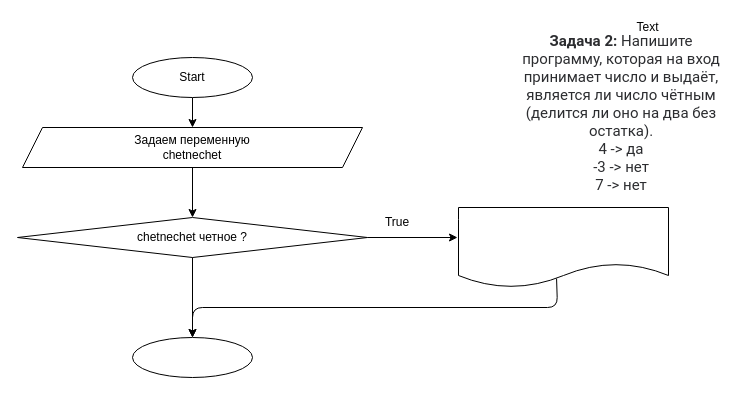
The diagram is 744 pixels wide and 395 high, and some of its shapes have lost their labels. Each missing label, with the box of its shape:
Chetnechet является четным: (458, 206, 668, 288)
Stop: (132, 336, 252, 378)
